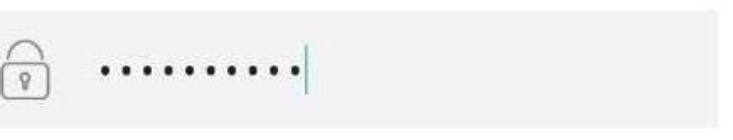EditText: (1, 1, 732, 139)
